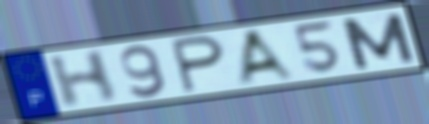5: (289, 21, 345, 76)
9: (117, 43, 169, 101)
A: (235, 26, 302, 86)
H: (45, 47, 120, 111)
M: (337, 11, 420, 72)
P: (168, 33, 228, 95)
